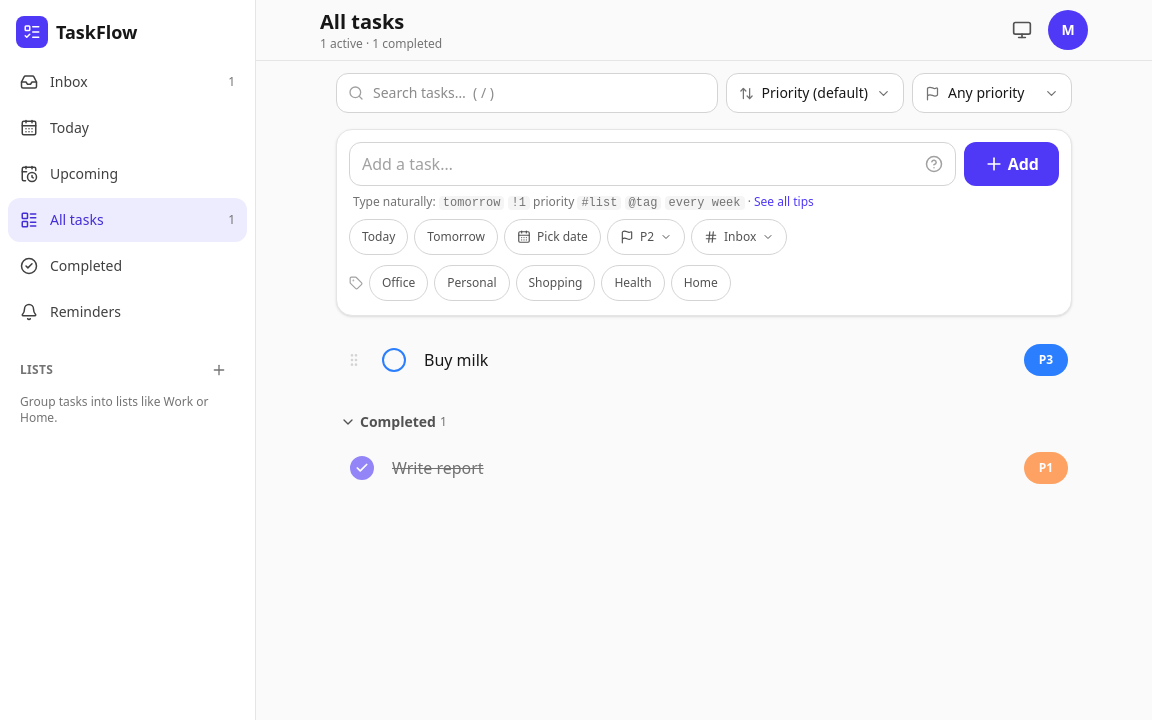
Test: TodoApp › shows finished tasks in the Completed view
This screenshot has width=1152, height=720.
Expected: the text "Buy milk" is shown, [420, 347, 492, 373]
Click the button "Completed": (128, 266) [8, 244, 247, 288]
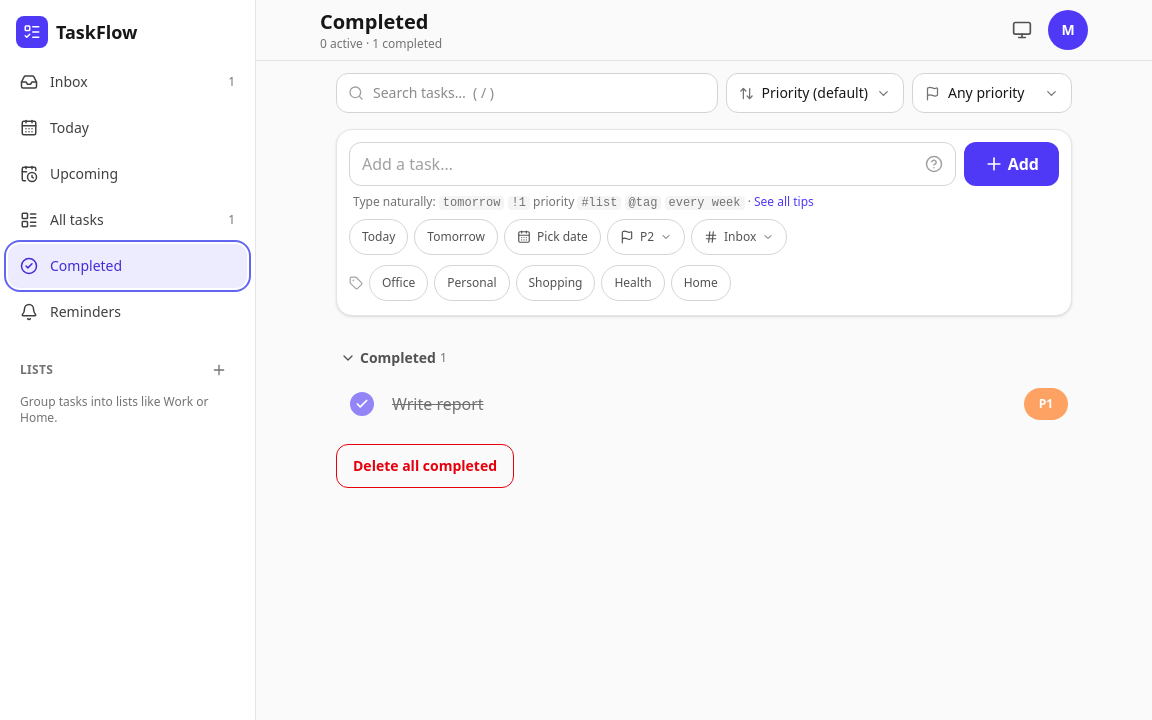
Expected: the list item shows "Write report", [388, 382, 1020, 426]
Expected: the number of list items is 1, [336, 380, 1072, 428]
